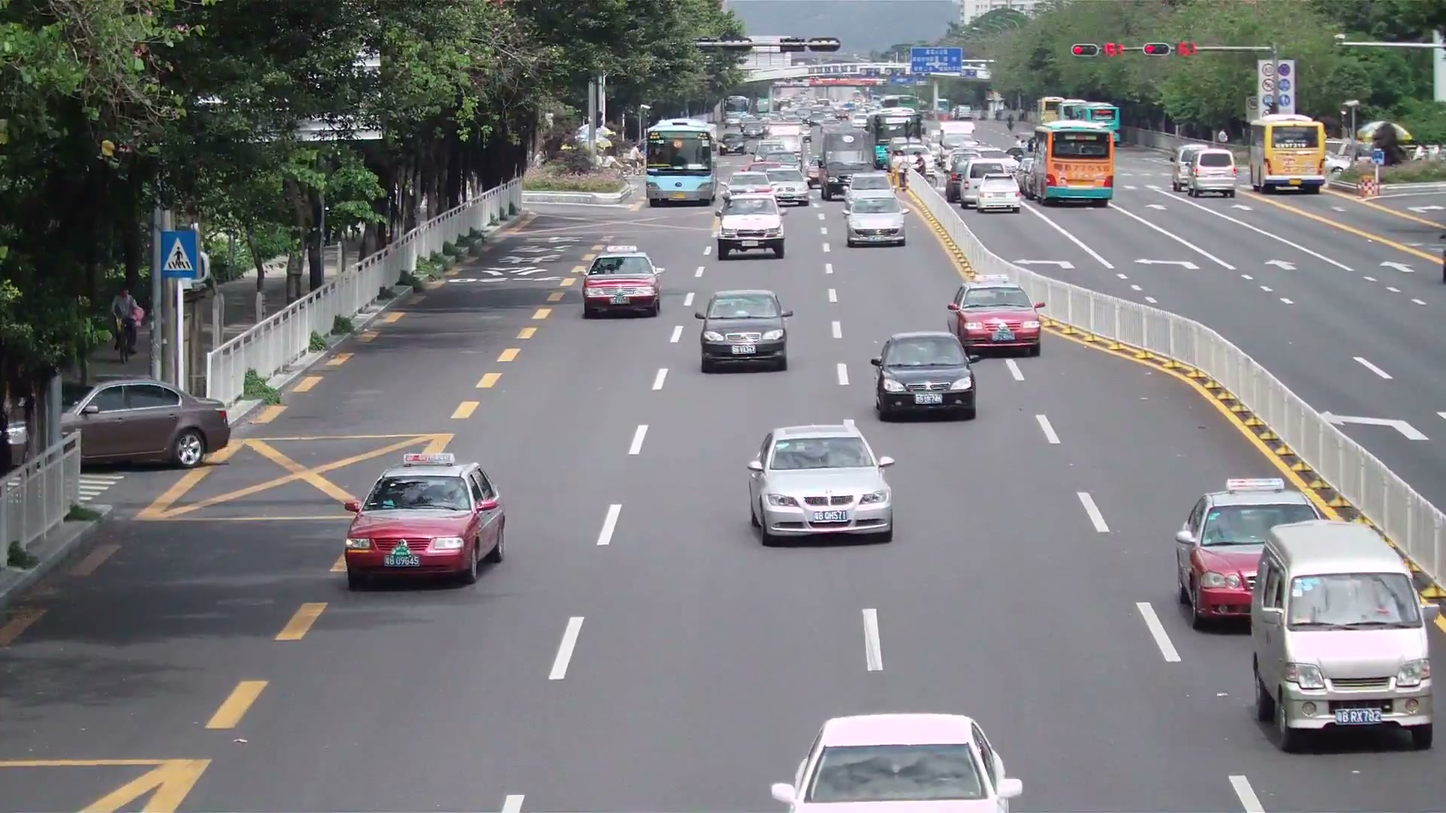bus: (1040, 120, 1116, 207), (644, 117, 715, 205)
car: (1248, 520, 1439, 754), (774, 712, 1024, 810), (1173, 482, 1322, 634), (344, 461, 507, 589), (745, 421, 897, 546), (60, 379, 232, 469), (871, 329, 978, 422), (697, 289, 790, 373), (946, 280, 1043, 359), (581, 250, 663, 319), (715, 187, 786, 260), (845, 188, 907, 247), (958, 159, 1023, 213)
pedestrian: (110, 287, 136, 361)
truck: (1038, 120, 1116, 207), (1244, 114, 1329, 193), (644, 117, 714, 205), (817, 123, 874, 195), (1172, 144, 1238, 198)
